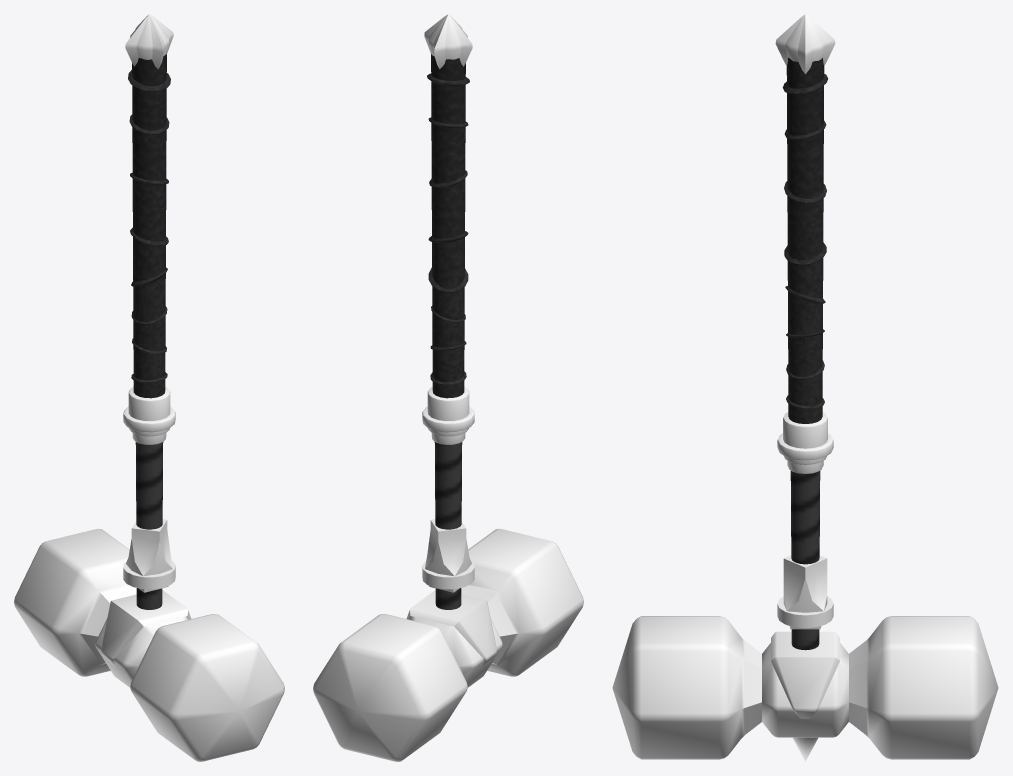
Rendered from Old Boys.fbx.
3 views of the same model, side by side, from view 1: azimuth 30°, elevation 25°; view 2: azimuth 150°, elevation 25°; view 3: azimuth 270°, elevation 25° (orthographic). The views are drawn at different scales.
Visible parts, largest first — view 1: Old_Boys; view 2: Old_Boys; view 3: Old_Boys.
Part boxes in pixels (box(x1,y1,x2,y2)): Old_Boys: box(14, 14, 284, 761); Old_Boys: box(313, 14, 583, 761); Old_Boys: box(612, 14, 998, 761).
Bounding box in the file's own units: 15.32 × 87.8 × 41.08.
